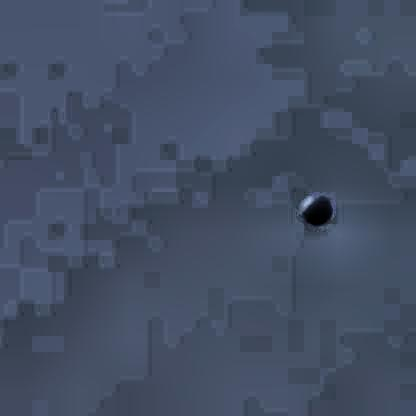golfball: (299, 189, 329, 220)
